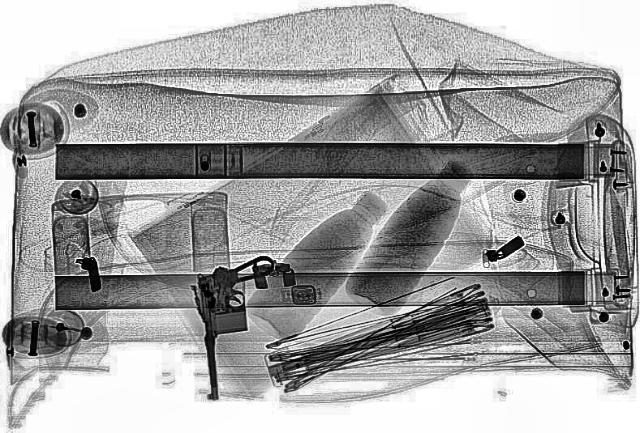Gun: (186, 254, 290, 400)
